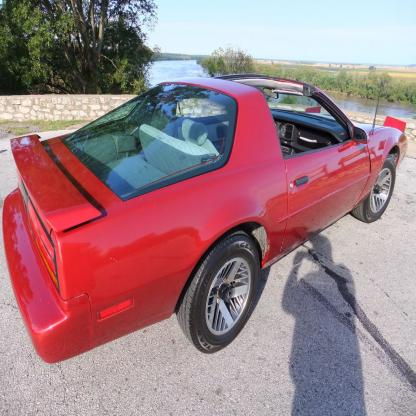Car: (3, 75, 409, 365)
